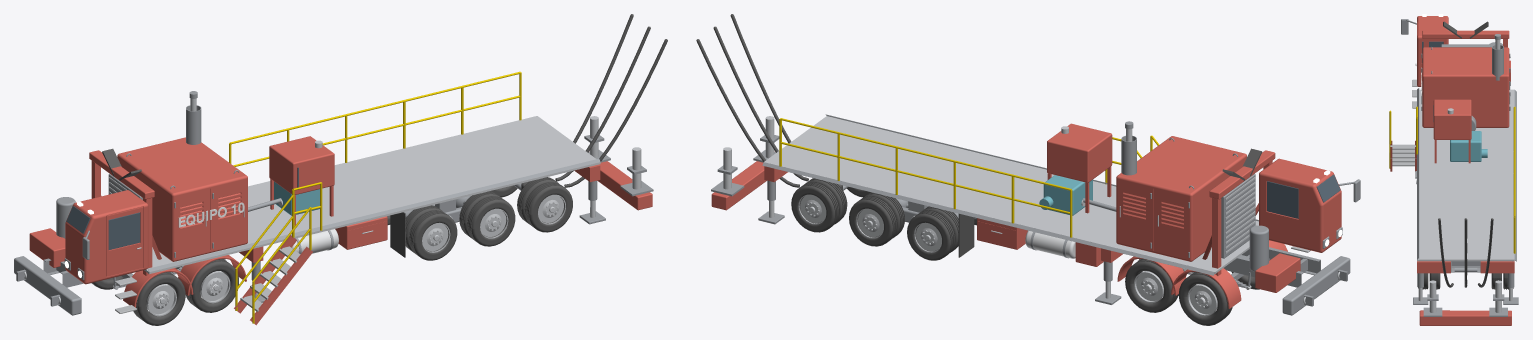
Rendered from sk575_carrier.glb.
The picture shows the model from 3 angles, left to right: view 1: azimuth 30°, elevation 25°; view 2: azimuth 150°, elevation 25°; view 3: azimuth 270°, elevation 25°; orthographic projection. The views are drawn at different scales.
Parts seen in each view (by area): view 1: sk575_carrier_acero, sk575_carrier_rojo, sk575_carrier_goma, sk575_motor_rojo, sk575_carrier_acero_oscuro, sk575_cabina_rojo, sk575_carrier_amarillo, sk575_motor_acero_oscuro, sk575_cabina_vidrio, sk575_carrier_grating, sk575_carrier_azul, sk575_carrier_aluminio; view 2: sk575_carrier_acero, sk575_carrier_rojo, sk575_carrier_goma, sk575_motor_rojo, sk575_carrier_acero_oscuro, sk575_cabina_rojo, sk575_motor_acero_oscuro, sk575_carrier_amarillo, sk575_carrier_azul, sk575_cabina_vidrio, sk575_motor_acero, sk575_carrier_aluminio; view 3: sk575_carrier_acero, sk575_motor_rojo, sk575_carrier_rojo, sk575_carrier_acero_oscuro, sk575_carrier_goma, sk575_carrier_azul, sk575_cabina_rojo, sk575_motor_acero_oscuro, sk575_carrier_amarillo, sk575_carrier_grating, sk575_cabina_acero_oscuro, sk575_cabina_vidrio (+2 smaller).
Boxes of the visible parts, x1=… form: sk575_carrier_acero: x1=24, y1=116, x2=641, y2=316; sk575_carrier_rojo: x1=29, y1=136, x2=652, y2=325; sk575_carrier_goma: x1=91, y1=14, x2=667, y2=325; sk575_motor_rojo: x1=117, y1=137, x2=247, y2=261; sk575_carrier_acero_oscuro: x1=14, y1=135, x2=653, y2=315; sk575_cabina_rojo: x1=65, y1=190, x2=148, y2=284; sk575_carrier_amarillo: x1=229, y1=71, x2=521, y2=323; sk575_motor_acero_oscuro: x1=56, y1=91, x2=281, y2=257; sk575_cabina_vidrio: x1=66, y1=206, x2=140, y2=249; sk575_carrier_grating: x1=240, y1=246, x2=300, y2=311; sk575_carrier_azul: x1=274, y1=181, x2=319, y2=215; sk575_carrier_aluminio: x1=291, y1=229, x2=338, y2=253; sk575_carrier_acero: x1=723, y1=116, x2=1339, y2=316; sk575_carrier_rojo: x1=711, y1=123, x2=1300, y2=308; sk575_carrier_goma: x1=696, y1=14, x2=1262, y2=325; sk575_motor_rojo: x1=1116, y1=136, x2=1246, y2=261; sk575_carrier_acero_oscuro: x1=711, y1=114, x2=1350, y2=315; sk575_cabina_rojo: x1=1259, y1=158, x2=1341, y2=252; sk575_motor_acero_oscuro: x1=1082, y1=121, x2=1268, y2=271; sk575_carrier_amarillo: x1=779, y1=118, x2=1159, y2=237; sk575_carrier_azul: x1=1039, y1=175, x2=1092, y2=215; sk575_cabina_vidrio: x1=1267, y1=174, x2=1340, y2=218; sk575_motor_acero: x1=1081, y1=129, x2=1255, y2=253; sk575_carrier_aluminio: x1=1025, y1=230, x2=1075, y2=258; sk575_carrier_acero: x1=1416, y1=89, x2=1514, y2=312; sk575_motor_rojo: x1=1422, y1=47, x2=1509, y2=127; sk575_carrier_rojo: x1=1390, y1=30, x2=1514, y2=325; sk575_carrier_acero_oscuro: x1=1413, y1=82, x2=1518, y2=316; sk575_carrier_goma: x1=1418, y1=21, x2=1513, y2=289; sk575_carrier_azul: x1=1450, y1=131, x2=1487, y2=161; sk575_cabina_rojo: x1=1417, y1=16, x2=1448, y2=86; sk575_motor_acero_oscuro: x1=1421, y1=34, x2=1510, y2=130; sk575_carrier_amarillo: x1=1389, y1=106, x2=1515, y2=253; sk575_carrier_grating: x1=1390, y1=144, x2=1416, y2=166; sk575_cabina_acero_oscuro: x1=1401, y1=19, x2=1416, y2=34; sk575_cabina_vidrio: x1=1422, y1=41, x2=1443, y2=62.
Bounding box in the file's own units: 14.57 × 4.06 × 3.42.
